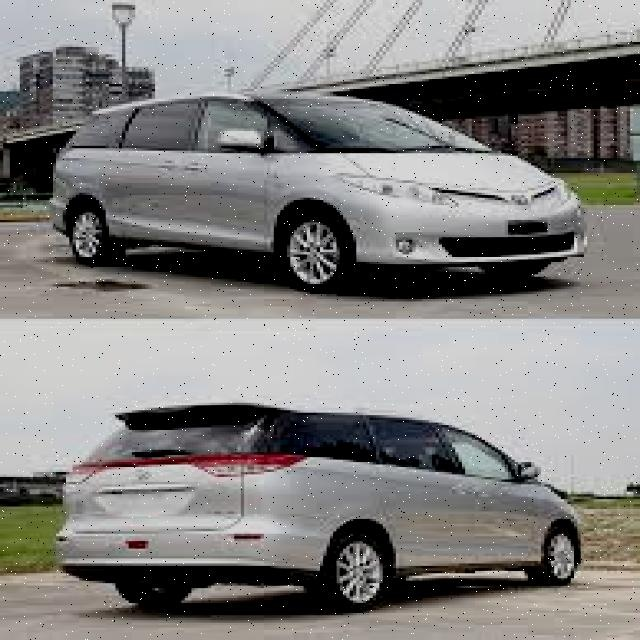Van: (49, 89, 584, 292)
